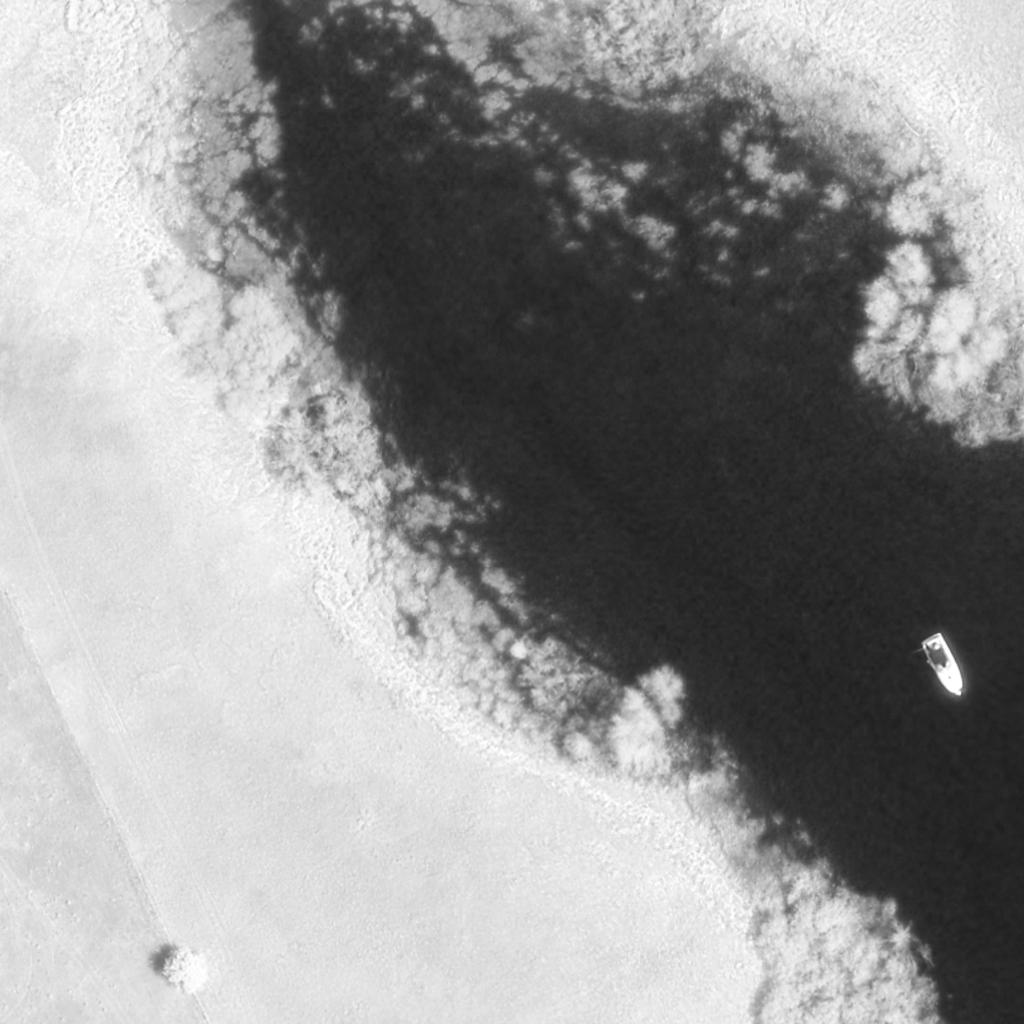vehicle: (920, 635, 972, 701)
